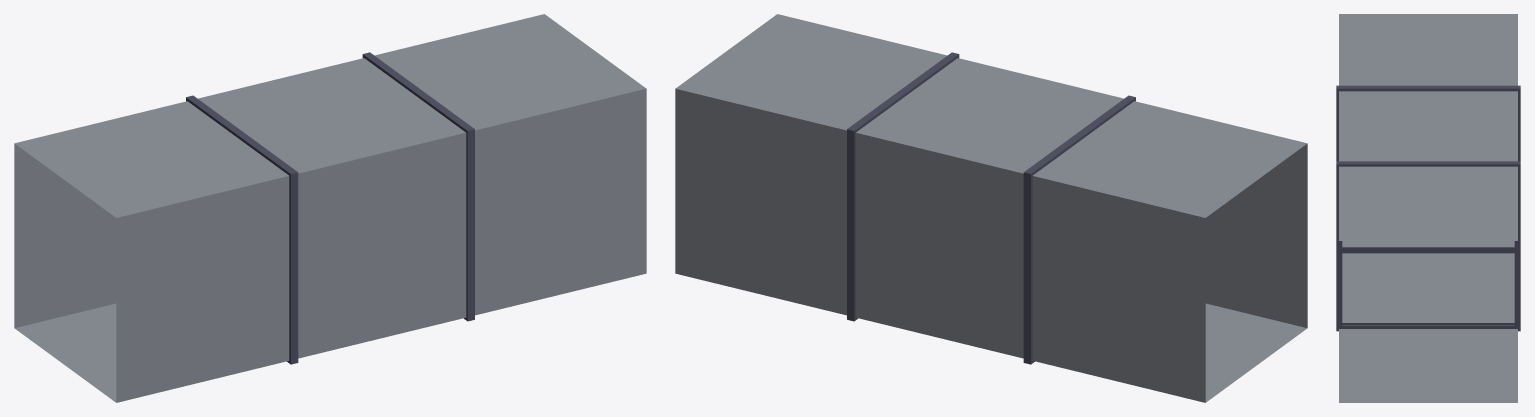
Rendered from SM_BuildingsDecor_29.fbx.
3 renders of one model, left to right at view 1: azimuth 30°, elevation 25°; view 2: azimuth 150°, elevation 25°; view 3: azimuth 270°, elevation 25°, orthographic. The views are drawn at different scales.
Parts seen in each view (by area): view 1: SM_BuildingsDecor_29; view 2: SM_BuildingsDecor_29; view 3: SM_BuildingsDecor_29.
Boxes of the visible parts, box(x1,y1,x2,y2) form: SM_BuildingsDecor_29: box(14, 14, 646, 402); SM_BuildingsDecor_29: box(675, 14, 1307, 402); SM_BuildingsDecor_29: box(1336, 14, 1520, 402).
Bounding box in the file's own units: 1.44 × 0.4944 × 0.4944.
